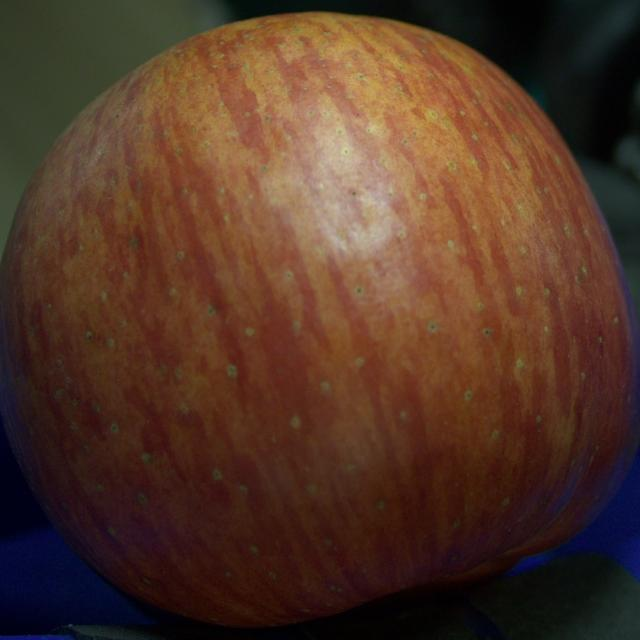apple: (0, 13, 639, 626)
